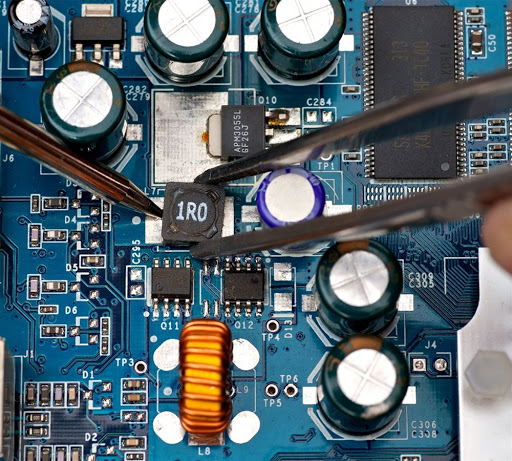capacitor: (31, 52, 135, 166), (315, 329, 419, 430), (311, 235, 406, 327), (259, 2, 345, 75), (248, 167, 329, 234), (149, 7, 230, 72)
